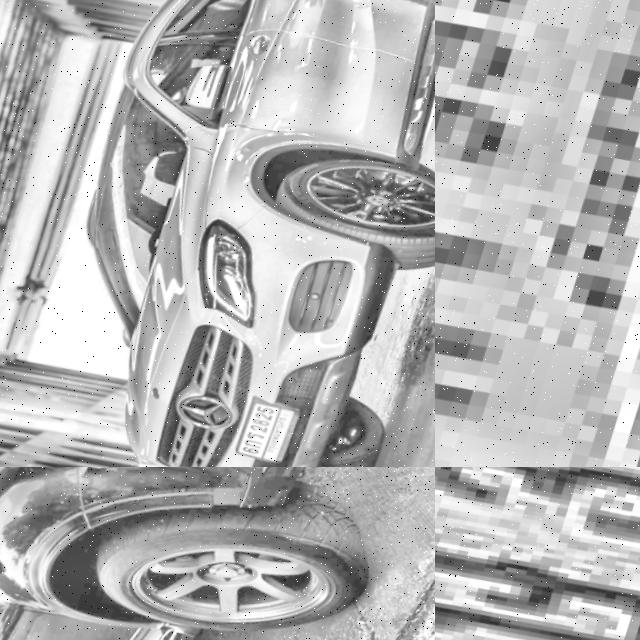license-plate: (435, 0, 640, 467), (435, 467, 640, 640), (237, 399, 309, 465)
